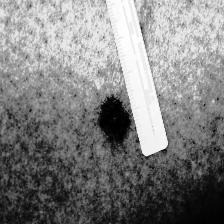Benign Marking or Mole: (97, 94, 129, 142)
